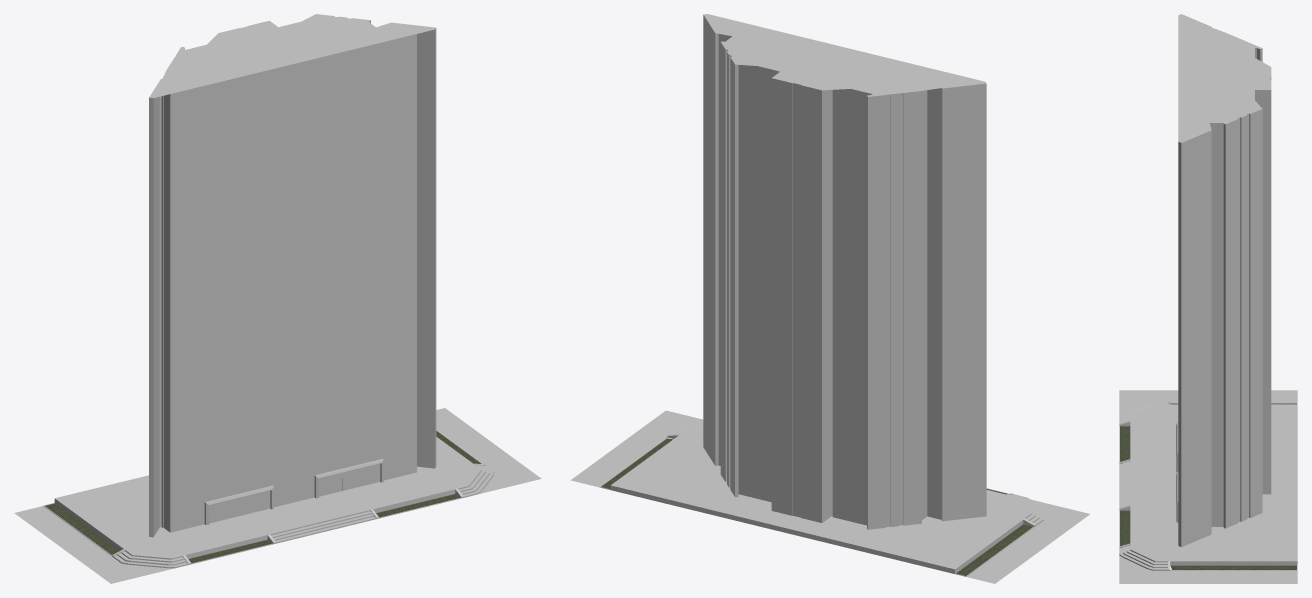
3 renders of one model, left to right at view 1: azimuth 30°, elevation 25°; view 2: azimuth 150°, elevation 25°; view 3: azimuth 270°, elevation 25°, orthographic. The views are drawn at different scales.
Parts seen in each view (by area): view 1: Building-BC-026, BC-026; view 2: Building-BC-026, BC-026; view 3: Building-BC-026, BC-026.
Part boxes in pixels (box(x1,y1,x2,y2)): Building-BC-026: box(149, 14, 436, 537); BC-026: box(14, 408, 541, 583); Building-BC-026: box(703, 14, 986, 529); BC-026: box(571, 410, 1089, 583); Building-BC-026: box(1176, 14, 1271, 546); BC-026: box(1119, 390, 1297, 583).
Size of what is drawn, in the model's own units: 92.4 by 91 by 36.
